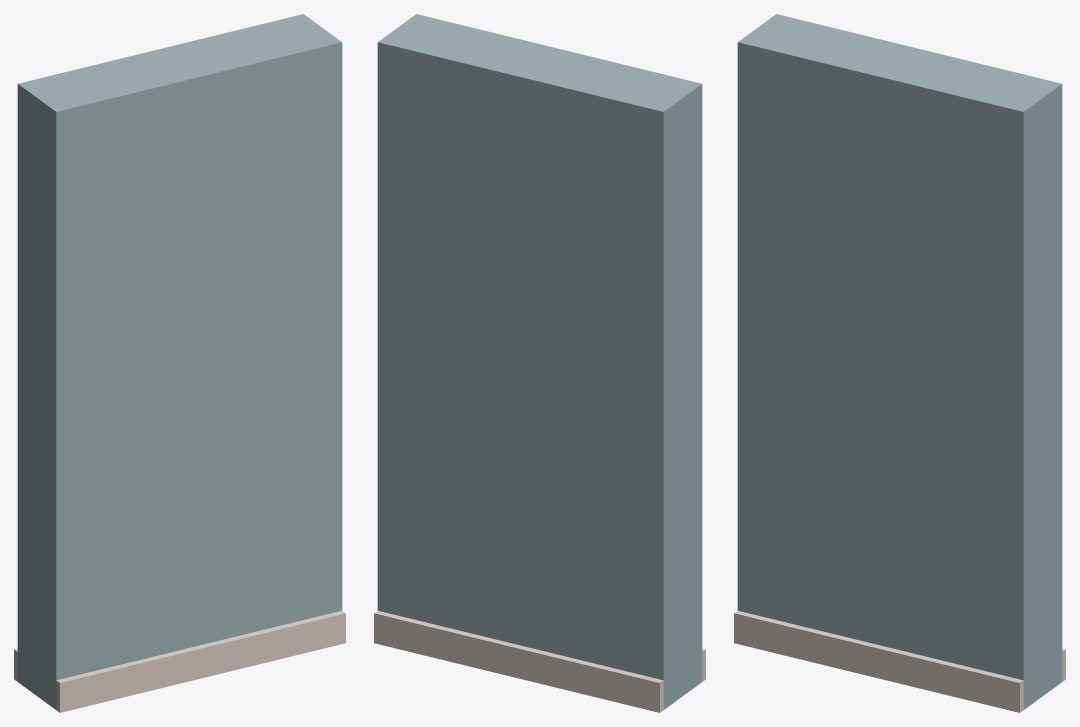
The model's file is HalfWall.fbx.
3 renders of one model, left to right at view 1: azimuth 30°, elevation 25°; view 2: azimuth 150°, elevation 25°; view 3: azimuth 330°, elevation 25°, orthographic.
Visible parts, largest first — view 1: HalfWall; view 2: HalfWall; view 3: HalfWall.
Boxes of the visible parts, <box> form: HalfWall: <box>14,14,345,712</box>; HalfWall: <box>374,14,705,712</box>; HalfWall: <box>734,14,1065,712</box>.
Bounding box in the file's own units: 1 × 0.278 × 2.
